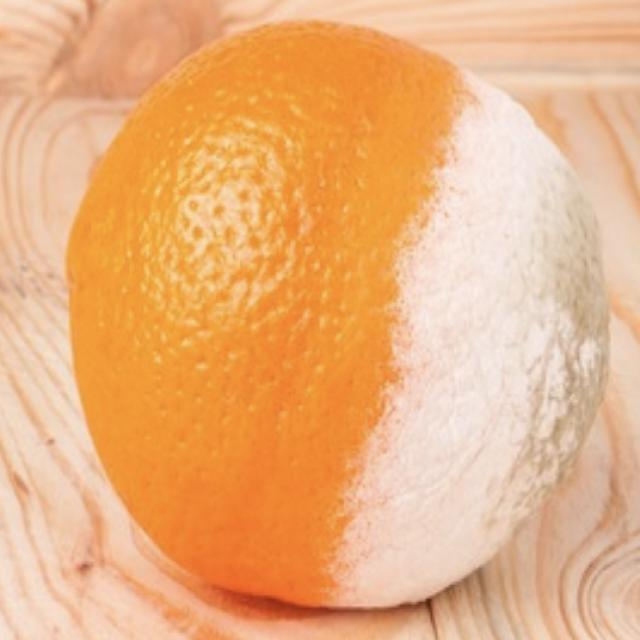rotten-orange: (61, 19, 613, 610)
